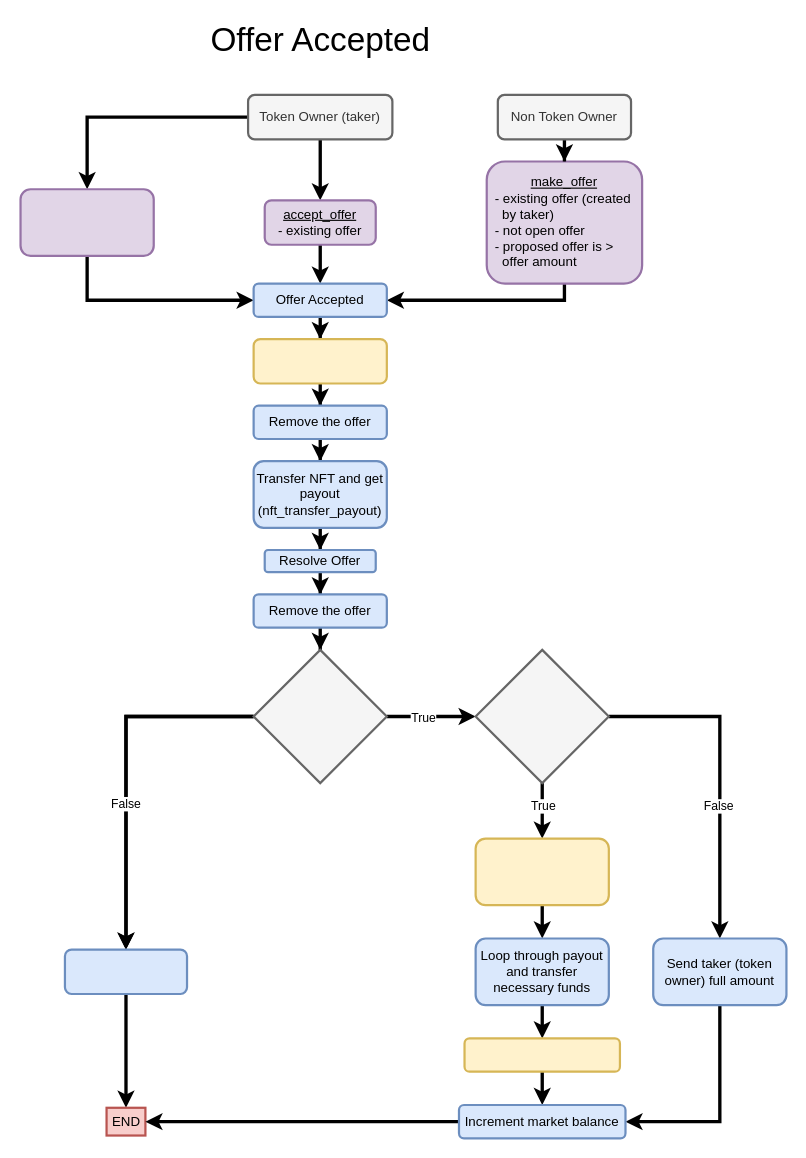
This 806x1158 diagram has some shape labels left out. The shapes that lost their labels are listed below. From the top down, each one's centre as x and y in pixels, then its label:
At [86,222]: "nft_on_approve - existing offer - auto transfer true".
At [319,360]: "Make sure offer has an approval ID".
At [319,716]: "Was nft_transfer_payout successful?".
At [541,716]: "Valid Payout object sent back?".
At [541,871]: "Ensure payout isn't too large or malicious".
At [125,971]: "Refund offer maker".
At [541,1054]: "LOG RESOLVE_OFFER".
